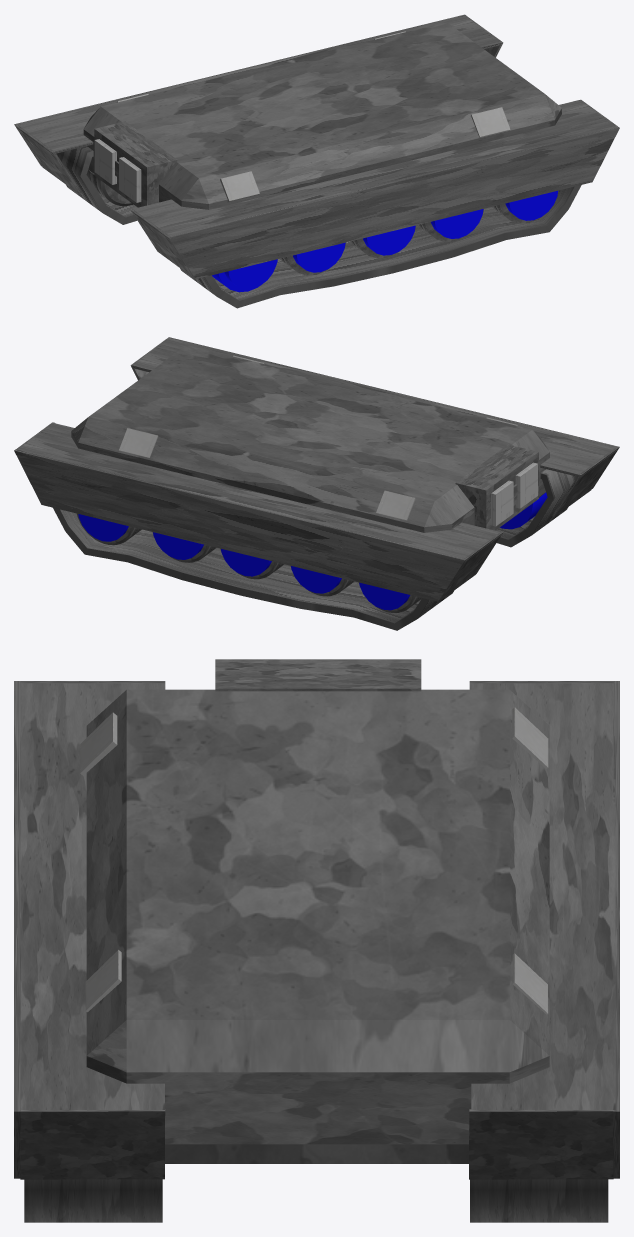
The model's file is Bottom_tank_blender_player.glb.
3 renders of one model, top to bottom at view 1: azimuth 30°, elevation 25°; view 2: azimuth 150°, elevation 25°; view 3: azimuth 270°, elevation 25°, orthographic. The views are drawn at different scales.
Parts seen in each view (by area): view 1: pCylinder25; view 2: pCylinder25; view 3: pCylinder25.
Part boxes in pixels (<box>): pCylinder25: <box>14,14,619,308</box>; pCylinder25: <box>14,337,619,630</box>; pCylinder25: <box>14,659,619,1222</box>.
Size of the model in its own units: 9.5 by 2.38 by 5.65.
5 materials, 4 textured.
